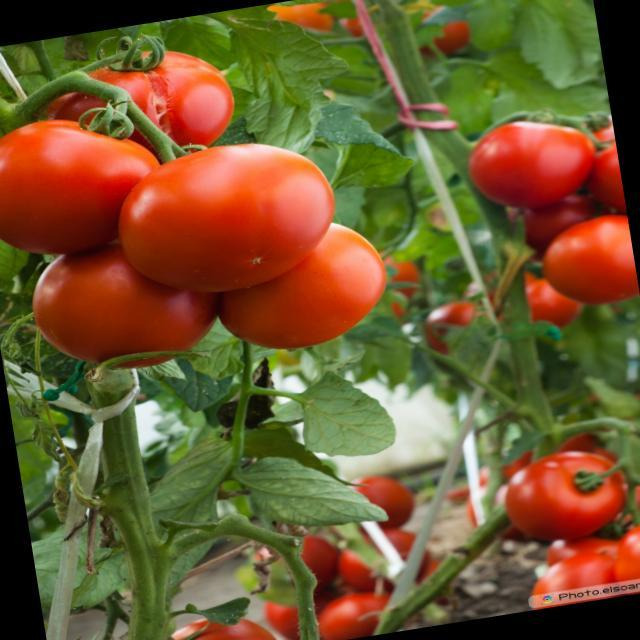TOMATO: (125, 128, 343, 308), (28, 220, 228, 372), (58, 31, 251, 168), (220, 212, 394, 362), (0, 108, 155, 263), (460, 113, 595, 218), (497, 446, 624, 535), (530, 212, 639, 304), (300, 577, 429, 640), (327, 525, 442, 595), (330, 463, 428, 535), (526, 550, 616, 610), (170, 603, 286, 640), (609, 508, 640, 585)
